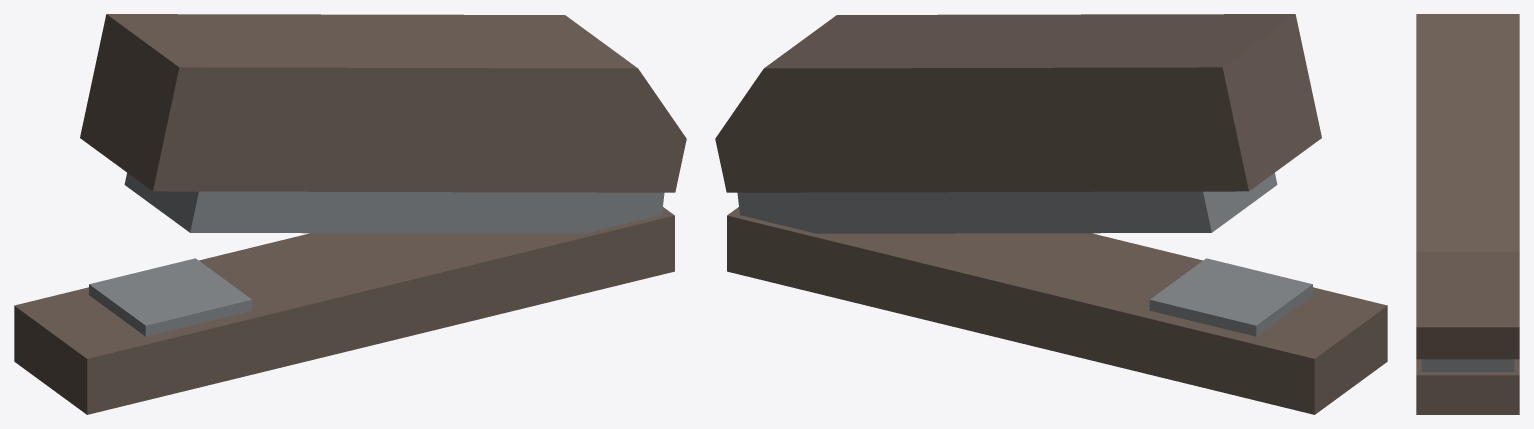
The model's file is stapler.fbx.
The picture shows the model from 3 angles, left to right: view 1: azimuth 30°, elevation 25°; view 2: azimuth 150°, elevation 25°; view 3: azimuth 270°, elevation 25°; orthographic projection. The views are drawn at different scales.
Visible parts, largest first — view 1: stapler; view 2: stapler; view 3: stapler.
Boxes of the visible parts, bbox=[...] form: stapler: bbox=[14, 14, 686, 414]; stapler: bbox=[715, 14, 1387, 414]; stapler: bbox=[1416, 14, 1519, 414].
Bounding box in the file's own units: 13.56 × 7.03 × 2.86.
